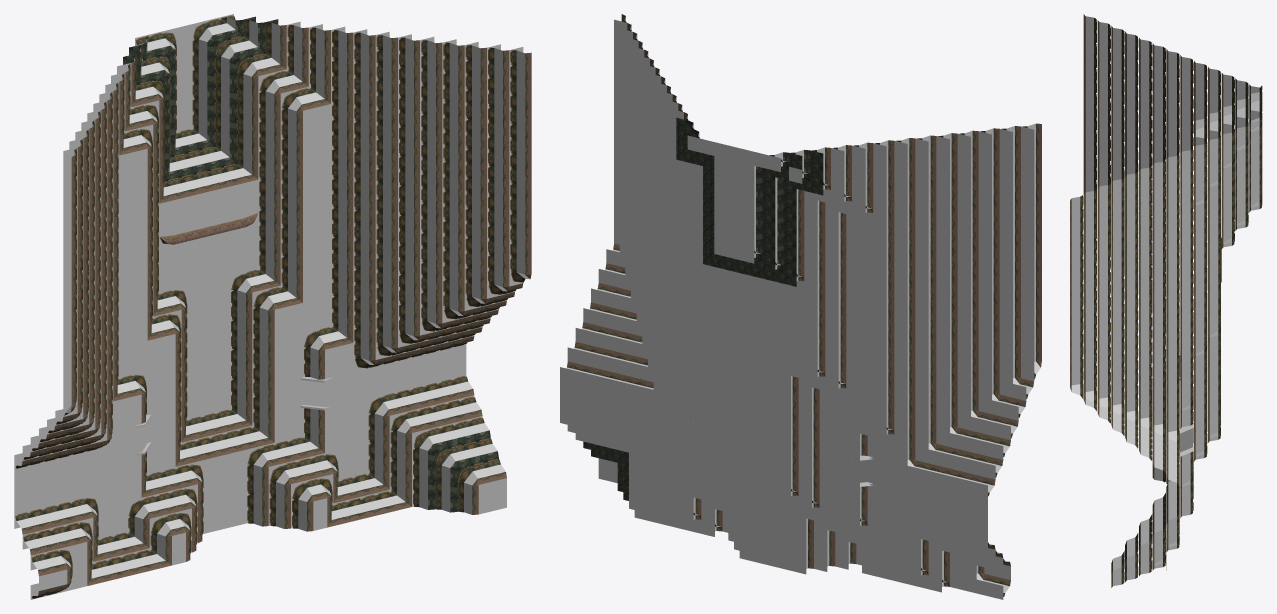
Rendered from Victory-Road-1_01_01.obj.
3 renders of one model, left to right at view 1: azimuth 30°, elevation 25°; view 2: azimuth 150°, elevation 25°; view 3: azimuth 270°, elevation 25°, orthographic. The views are drawn at different scales.
Visible parts, largest first — view 1: map; view 2: map; view 3: map.
Part boxes in pixels (box(x1,y1,x2,y2)): map: box(14, 14, 531, 599); map: box(560, 14, 1041, 599); map: box(1070, 14, 1262, 587).
Size of the model in its own units: 32 by 32 by 14.
